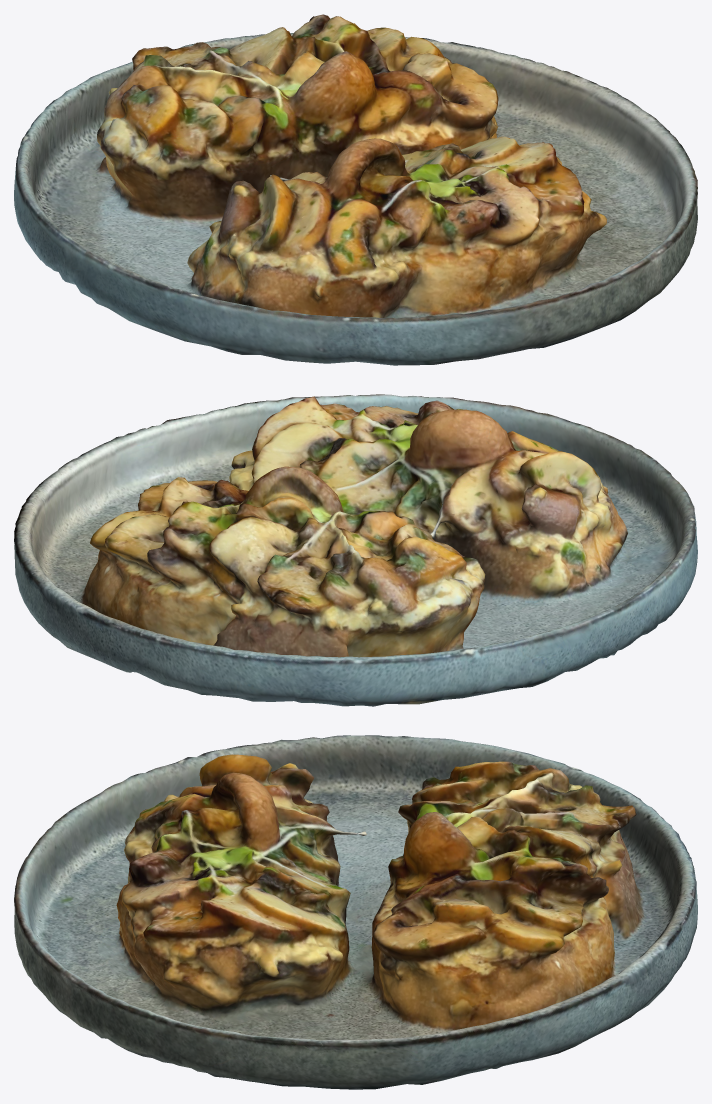
File: tartine-champignons.glb
The picture shows the model from 3 angles, top to bottom: view 1: azimuth 30°, elevation 25°; view 2: azimuth 150°, elevation 25°; view 3: azimuth 270°, elevation 25°; orthographic projection.
Parts seen in each view (by area): view 1: /ObjectCapture/Geometry/Mesh; view 2: /ObjectCapture/Geometry/Mesh; view 3: /ObjectCapture/Geometry/Mesh.
Part boxes in pixels (<box>): /ObjectCapture/Geometry/Mesh: <box>14,14,697,365</box>; /ObjectCapture/Geometry/Mesh: <box>14,394,697,706</box>; /ObjectCapture/Geometry/Mesh: <box>14,735,697,1089</box>.
Size of the model in its own units: 0.2081 by 0.0541 by 0.2078.
Materials: 1 (1 with a texture image).
